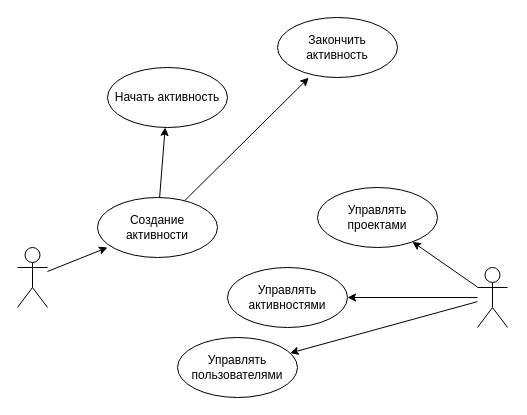
Image size: 527x415. Some labels were removed from this diagram. Here are the shapes that lost their labels. From the top down, the centre of each, then its label:
At (32,277): "User".
At (492,297): "Admin".
